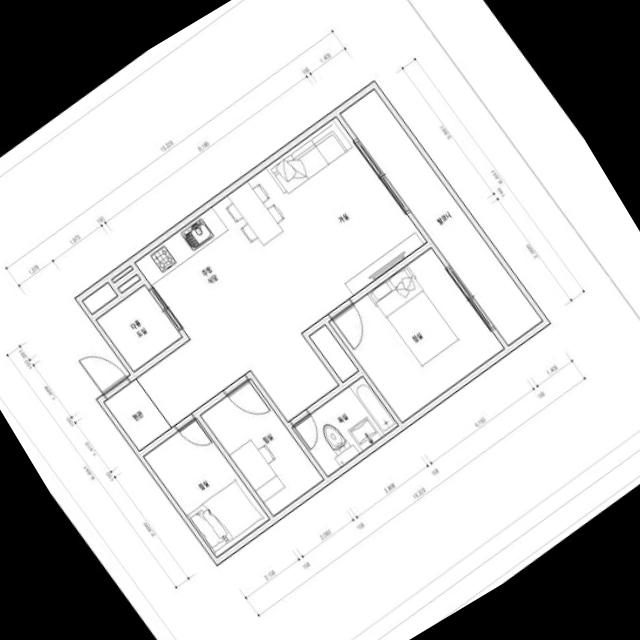background: (0, 0, 640, 640)
space_balconi: (340, 89, 542, 345)
space_bedroom: (329, 248, 504, 422), (143, 418, 269, 557), (200, 379, 323, 515)
space_front: (104, 379, 171, 450)
space_kitchen: (135, 175, 311, 339)
space_living_room: (136, 117, 426, 427)
space_multipurpose_space: (96, 285, 182, 371)
space_other: (309, 325, 358, 381), (82, 282, 117, 313), (118, 274, 140, 292), (112, 266, 132, 282)
space_toilet: (292, 376, 397, 476)
